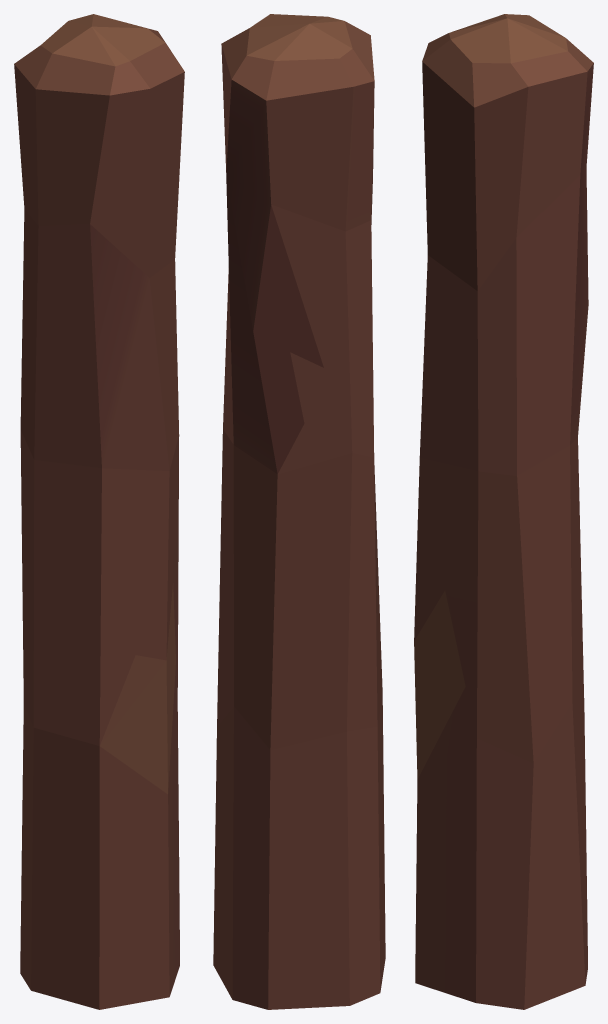
File: log_1.fbx
3 renders of one model, left to right at view 1: azimuth 30°, elevation 25°; view 2: azimuth 150°, elevation 25°; view 3: azimuth 270°, elevation 25°, orthographic.
Parts seen in each view (by area): view 1: log_1; view 2: log_1; view 3: log_1.
Part boxes in pixels (x1,y1,x2,y2): log_1: [14, 14, 184, 1009]; log_1: [213, 14, 385, 1009]; log_1: [414, 14, 593, 1009].
Size of the model in its own units: 21.76 by 129 by 22.19.
